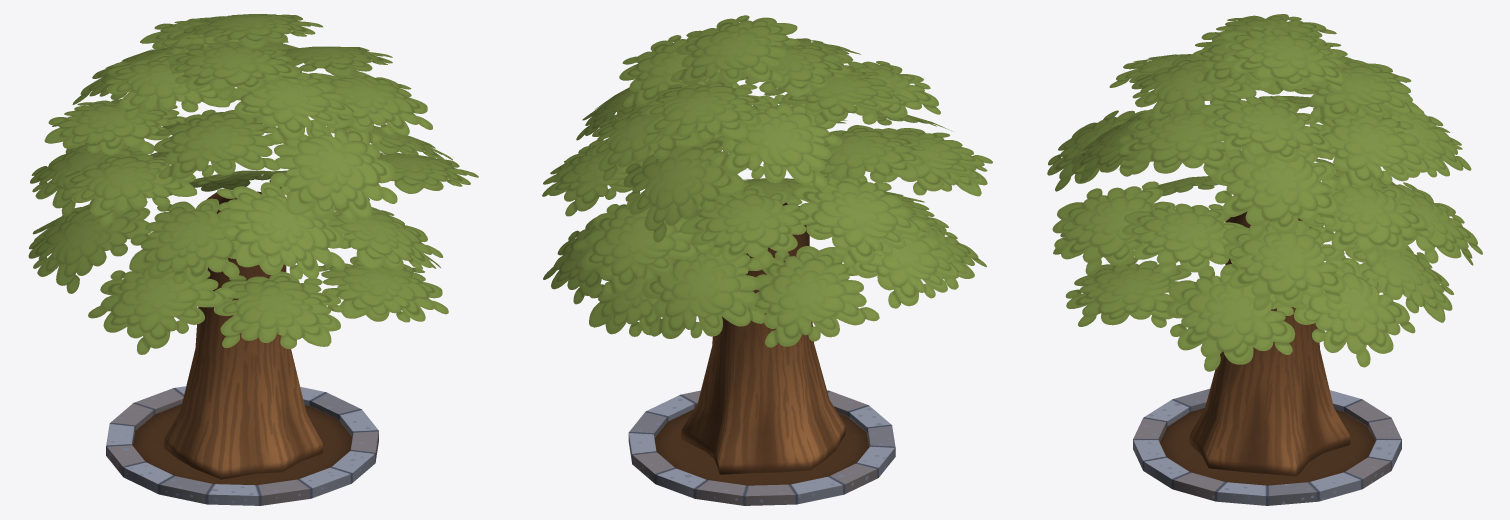
The model's file is Tree.fbx.
3 views of the same model, side by side, from view 1: azimuth 30°, elevation 25°; view 2: azimuth 150°, elevation 25°; view 3: azimuth 270°, elevation 25° (orthographic). The views are drawn at different scales.
Parts seen in each view (by area): view 1: Tree, Tree_Leaves 17, Tree_Leaves 24, Tree_Leaves 28, Tree_Leaves 27, Tree_Leaves 25, Tree_Leaves 2, Tree_Leaves 19, Tree_Leaves 26, Tree_Leaves 32, Tree_Leaves 7, Tree_Leaves (+12 smaller); view 2: Tree, Tree_Leaves 22, Tree_Leaves 16, Tree_Leaves 18, Tree_Leaves 9, Tree_Leaves 4, Tree_Leaves 12, Tree_Leaves 13, Tree_Leaves 30, Tree_Leaves 6, Tree_Leaves 26, Tree_Leaves 29 (+14 smaller); view 3: Tree, Tree_Leaves 21, Tree_Leaves 14, Tree_Leaves 10, Tree_Leaves 20, Tree_Leaves 8, Tree_Leaves 3, Tree_Leaves 15, Tree_Leaves 30, Tree_Leaves 23, Tree_Leaves 11, Tree_Leaves 32 (+12 smaller).
Boxes of the visible parts, x1,y1,x2,y2 form: Tree: (106, 191, 378, 505); Tree_Leaves 17: (264, 124, 397, 220); Tree_Leaves 24: (217, 182, 344, 279); Tree_Leaves 28: (214, 271, 344, 349); Tree_Leaves 27: (88, 269, 236, 354); Tree_Leaves 25: (129, 198, 241, 284); Tree_Leaves 2: (153, 109, 280, 179); Tree_Leaves 19: (61, 150, 197, 225); Tree_Leaves 26: (28, 198, 151, 293); Tree_Leaves 32: (318, 256, 448, 322); Tree_Leaves 7: (229, 64, 354, 142); Tree_Leaves: (166, 41, 301, 100); Tree: (628, 202, 895, 505); Tree_Leaves 22: (747, 246, 879, 347); Tree_Leaves 16: (642, 241, 766, 338); Tree_Leaves 18: (794, 174, 928, 267); Tree_Leaves 9: (623, 135, 744, 242); Tree_Leaves 4: (711, 94, 841, 189); Tree_Leaves 12: (679, 182, 822, 267); Tree_Leaves 13: (573, 200, 711, 297); Tree_Leaves 30: (670, 15, 800, 84); Tree_Leaves 6: (642, 82, 769, 143); Tree_Leaves 26: (831, 224, 966, 308); Tree_Leaves 29: (813, 125, 925, 188); Tree: (1133, 211, 1401, 505); Tree_Leaves 21: (1166, 266, 1295, 371); Tree_Leaves 14: (1222, 220, 1345, 310); Tree_Leaves 10: (1211, 146, 1339, 239); Tree_Leaves 20: (1293, 255, 1415, 367); Tree_Leaves 8: (1199, 94, 1333, 167); Tree_Leaves 3: (1313, 104, 1440, 188); Tree_Leaves 15: (1122, 201, 1244, 276); Tree_Leaves 30: (1219, 24, 1346, 92); Tree_Leaves 23: (1052, 181, 1175, 275); Tree_Leaves 11: (1303, 177, 1432, 264); Tree_Leaves 32: (1065, 257, 1191, 327).
Size of the model in its own units: 3.56 by 3.47 by 3.53.
Materials: 2 (2 with a texture image).
